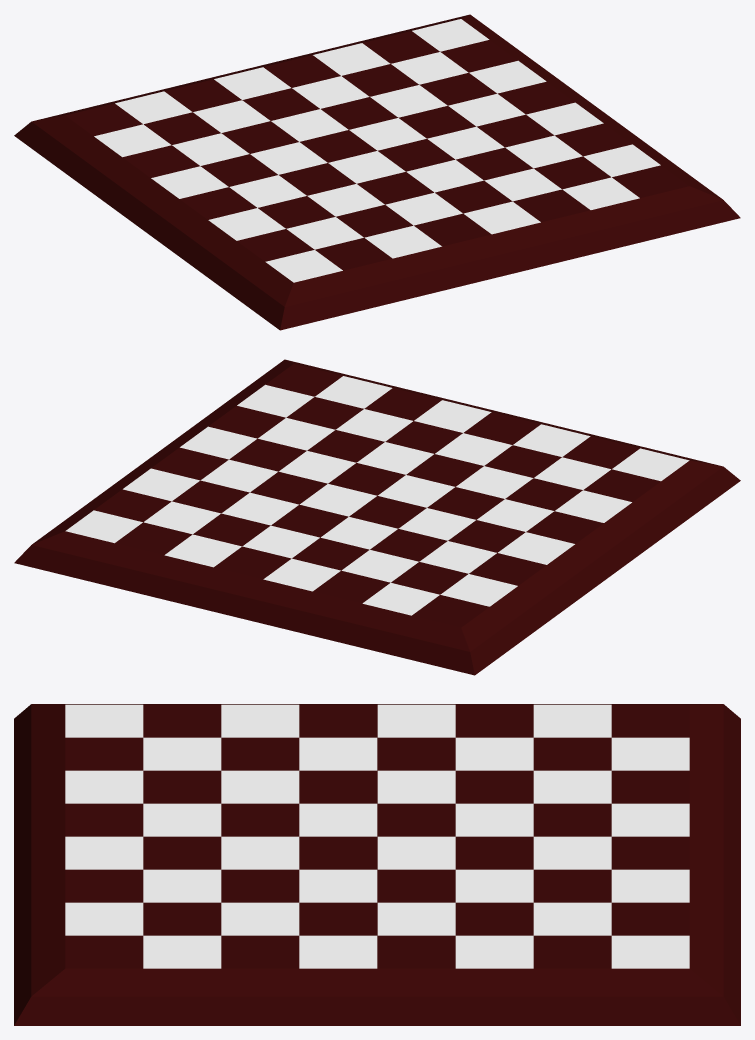
The model's file is chess board.fbx.
The picture shows the model from 3 angles, top to bottom: view 1: azimuth 30°, elevation 25°; view 2: azimuth 150°, elevation 25°; view 3: azimuth 270°, elevation 25°; orthographic projection. The views are drawn at different scales.
Parts seen in each view (by area): view 1: Plane.002; view 2: Plane.002; view 3: Plane.002.
Part boxes in pixels (left/top/right/bottom): Plane.002: left=14, top=14, right=740, bottom=330; Plane.002: left=14, top=359, right=740, bottom=675; Plane.002: left=14, top=704, right=740, bottom=1025.
Size of the model in its own units: 3849 by 208 by 3849.
